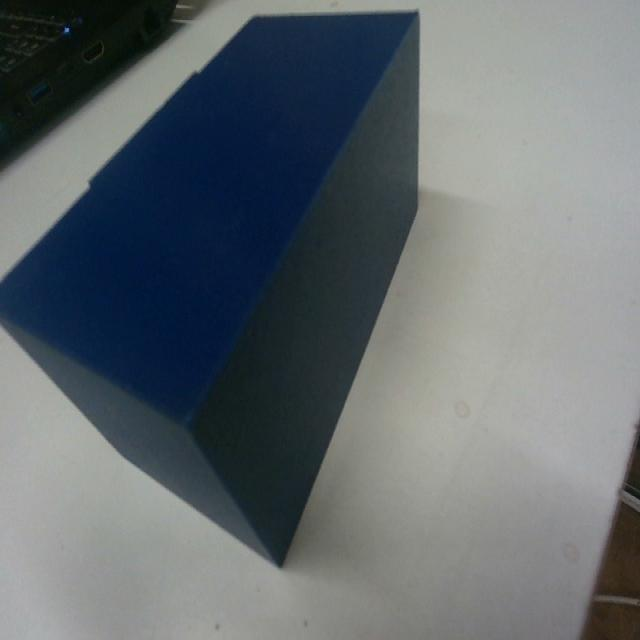Blue Cuboid: (0, 5, 422, 567)
